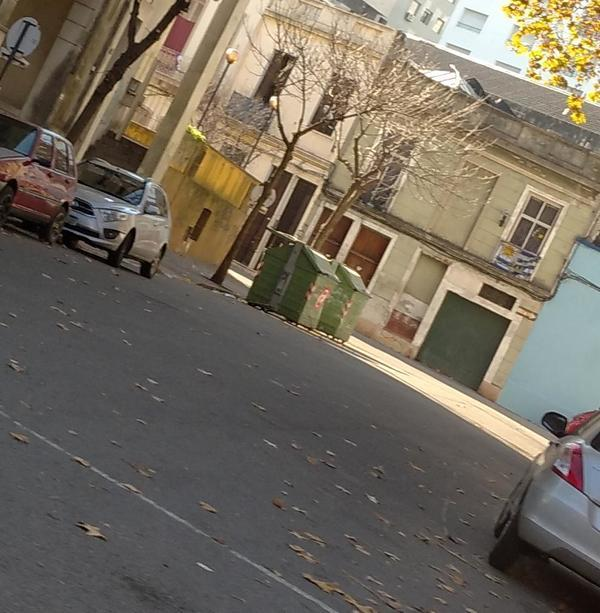Trash: (246, 232, 368, 342)
